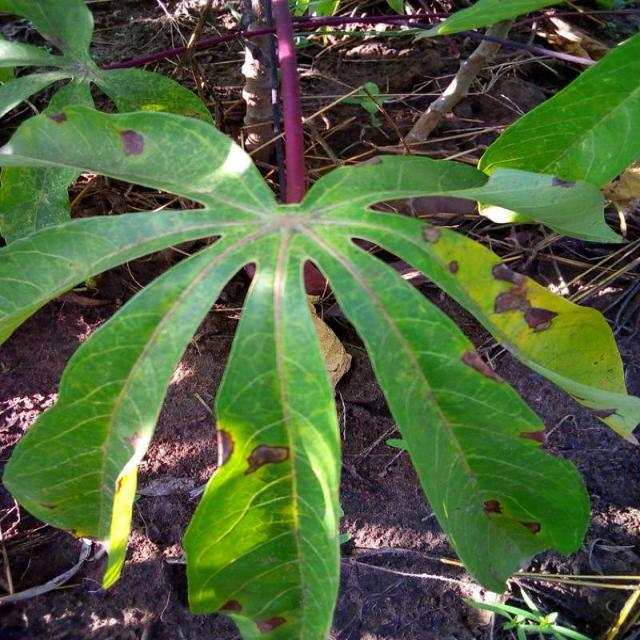cassava leaf: (1, 99, 632, 637), (182, 233, 345, 638)
